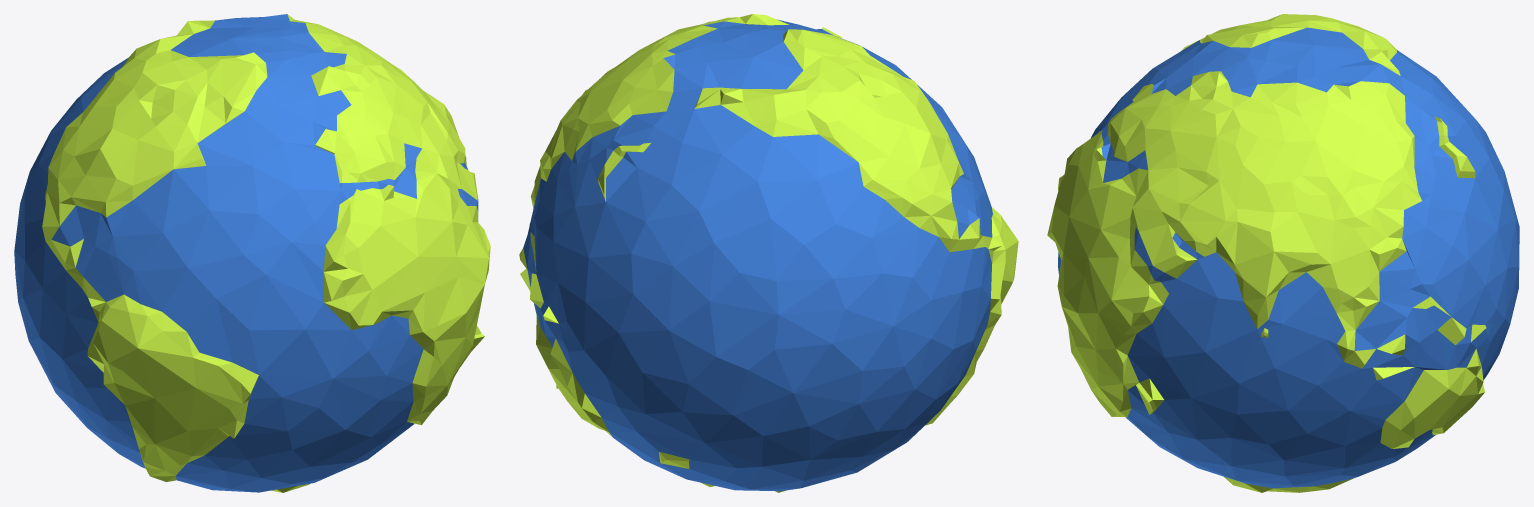
The model's file is earth.glb.
3 views of the same model, side by side, from view 1: azimuth 30°, elevation 25°; view 2: azimuth 150°, elevation 25°; view 3: azimuth 270°, elevation 25° (orthographic).
Visible parts, largest first — view 1: Icosphere.001; view 2: Icosphere.001; view 3: Icosphere.001.
Boxes of the visible parts, <box> form: Icosphere.001: <box>14,14,490,492</box>; Icosphere.001: <box>519,14,1018,492</box>; Icosphere.001: <box>1047,14,1519,492</box>.
Size of the model in its own units: 10.06 by 10.26 by 10.17.
